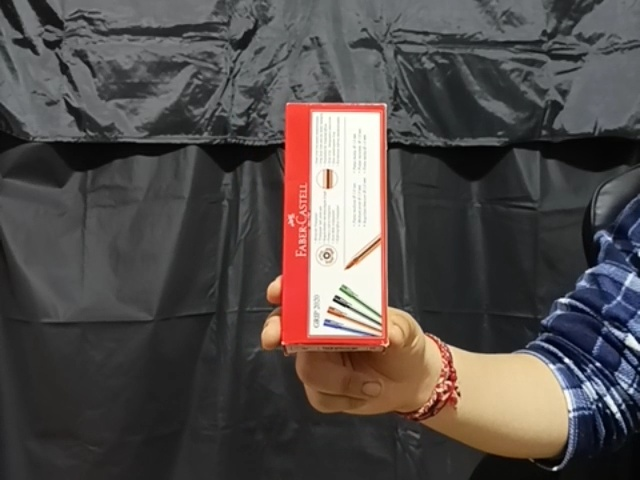xd: (281, 101, 391, 351)
